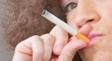smoke: (40, 9, 90, 45)
